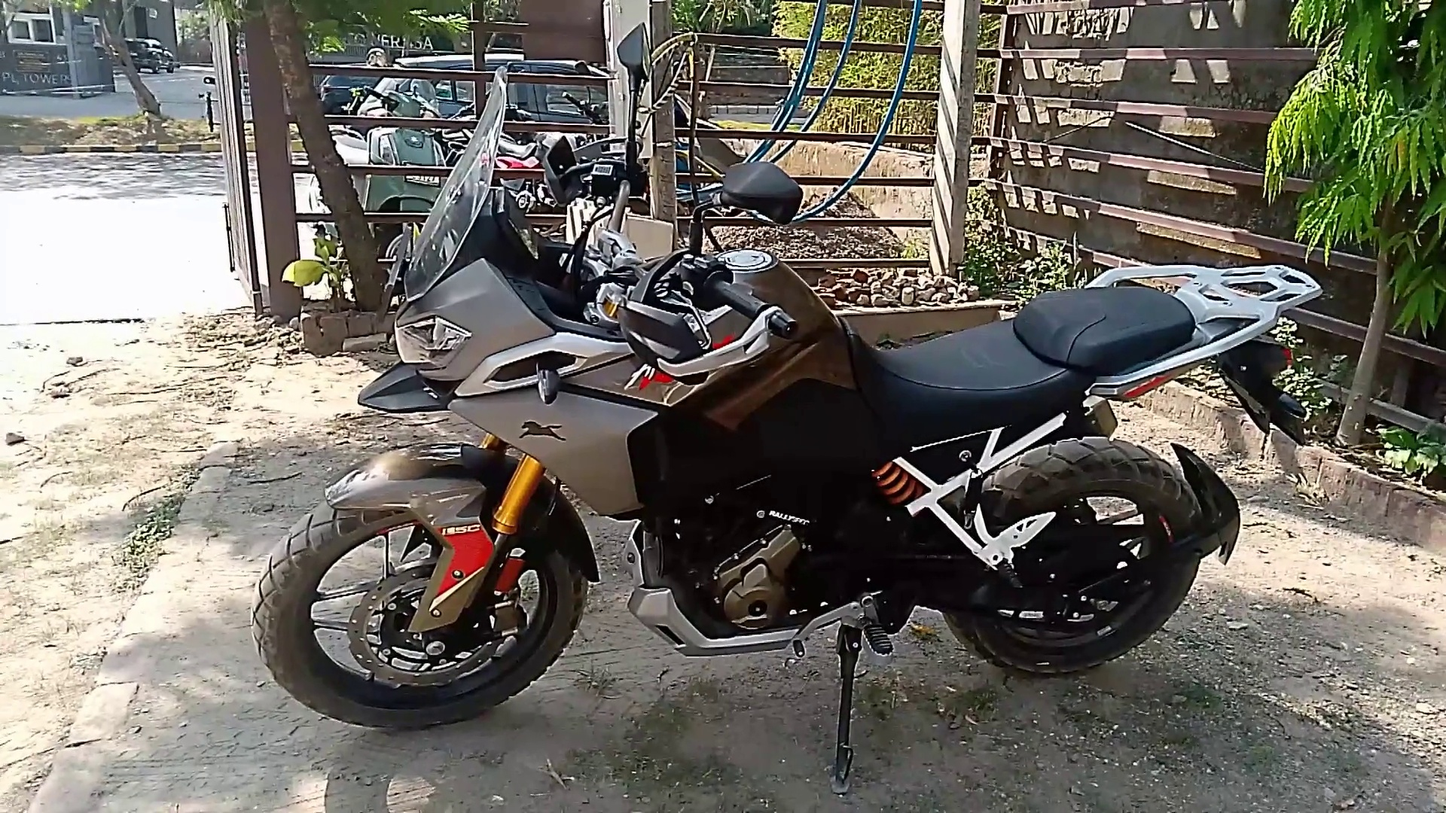engine-casing-left: (721, 519, 798, 634)
side-stand: (834, 640, 857, 793)
